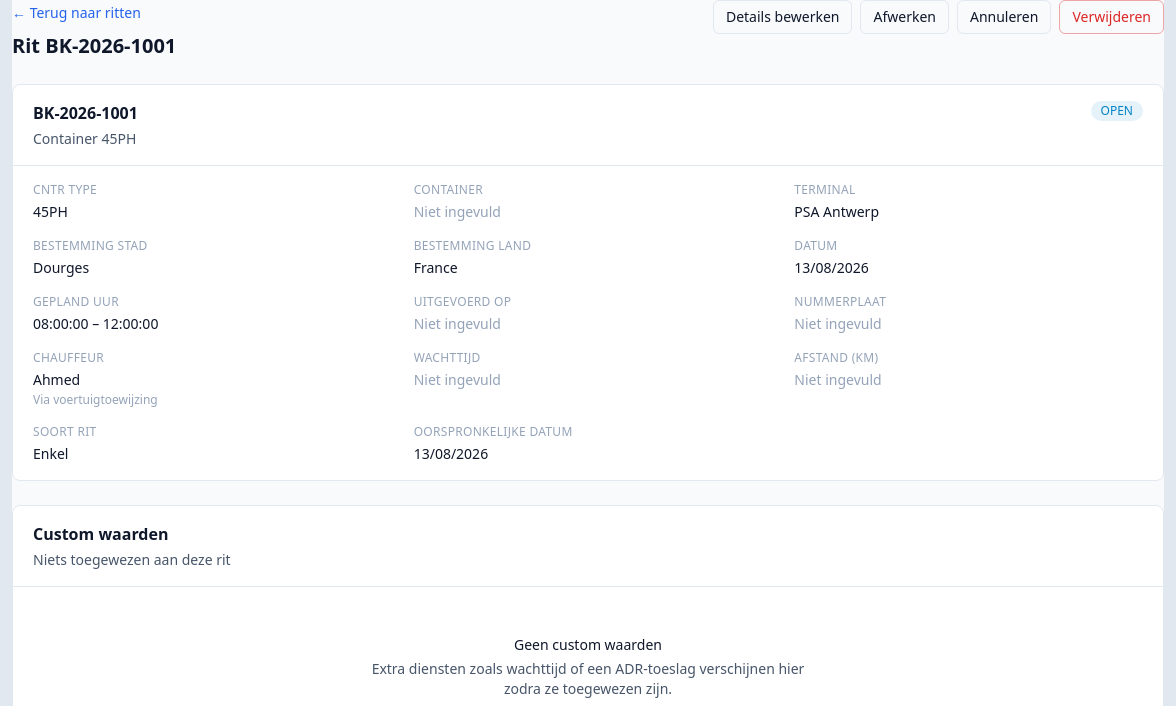
Scenario: The vehicle picker › the vehicle picker › shows the new truck's driver after the plate is changed and saved
Click the button "Details bewerken" at x=783, y=17, box [713,0,852,34]
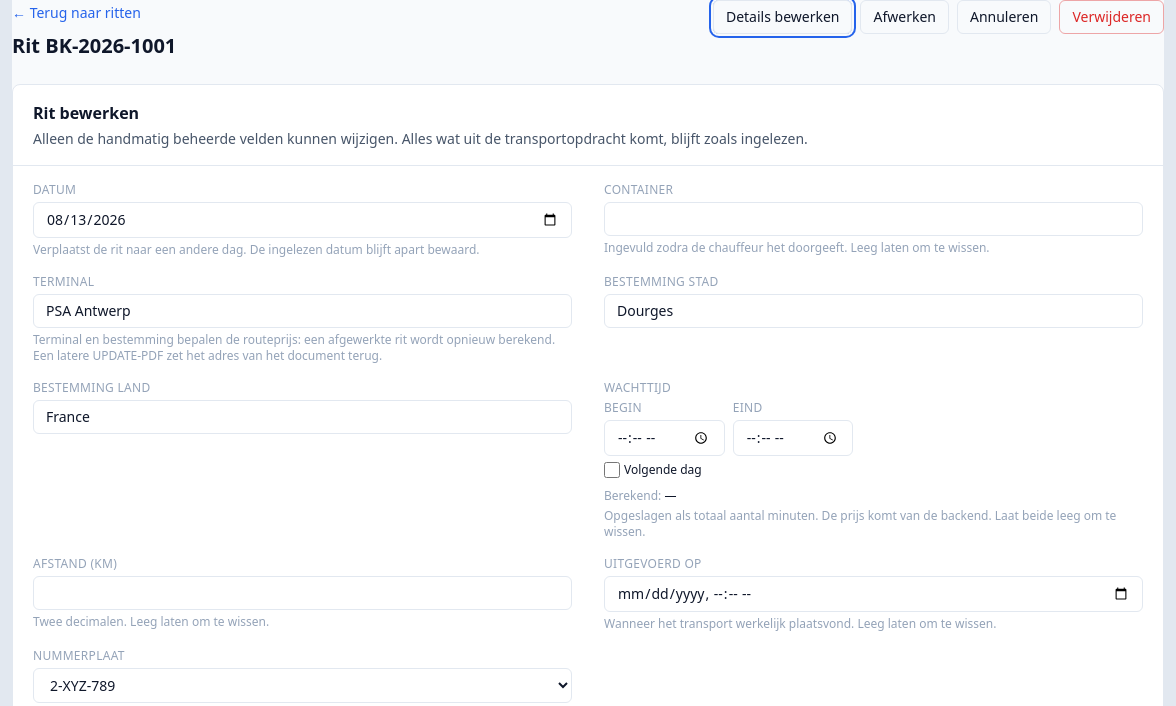
Select "1-ABC-123 · Volvo FH16" in the dropdown labelled "Nummerplaat" at x=302, y=686, box [33,668,572,703]
(page scrolled)
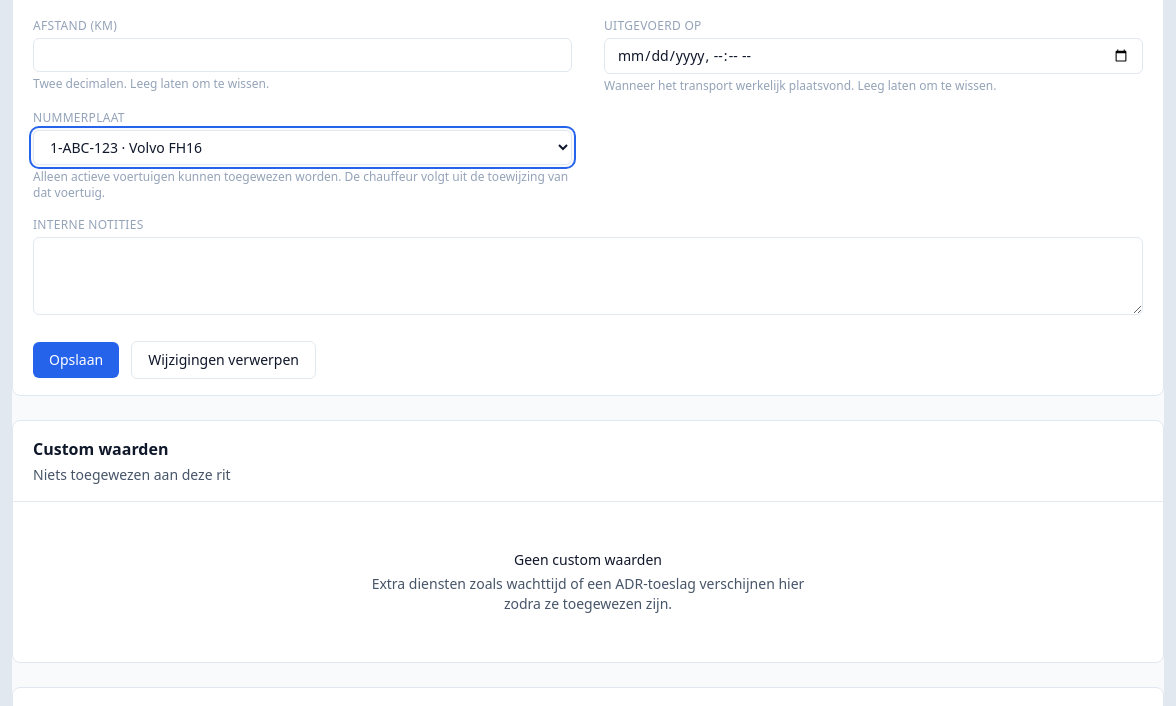
Click the button "Opslaan" at x=76, y=360, box [33,342,119,378]
(page scrolled)
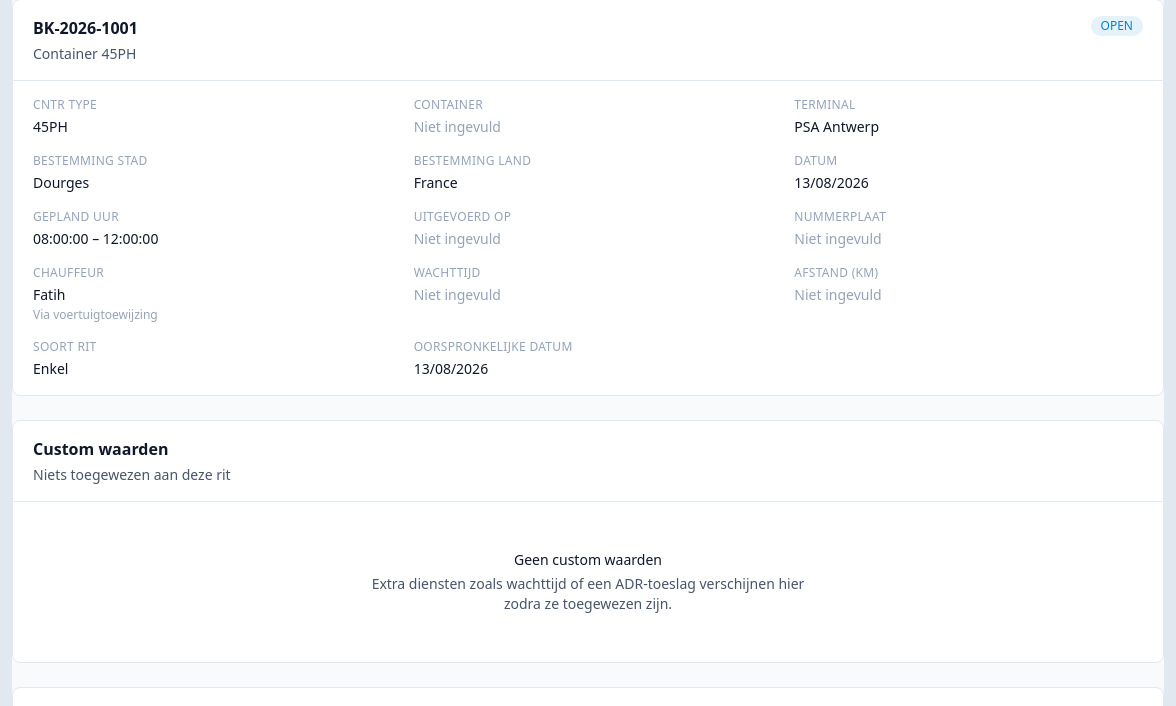
Expected: the text "Ahmed" is not shown
Now the text "Fatih" is shown, box [33,285,66,304]
